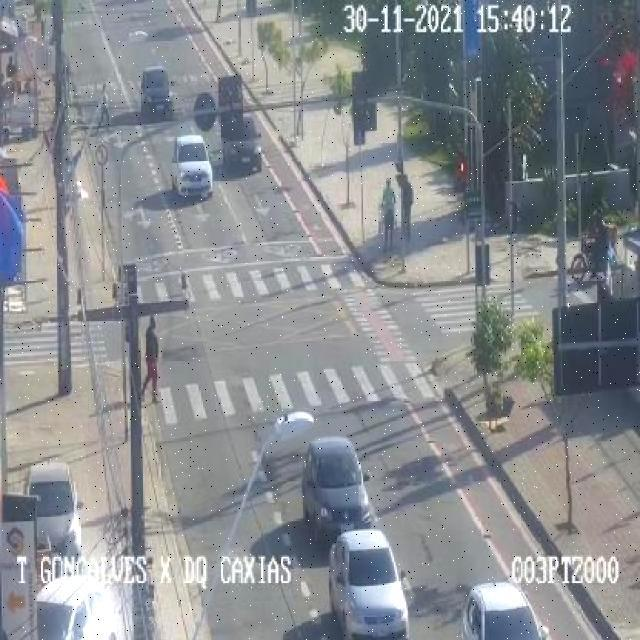Car: (328, 530, 407, 638), (301, 437, 374, 542), (35, 575, 128, 639), (26, 461, 82, 559), (459, 582, 550, 639), (170, 134, 213, 198), (222, 117, 262, 174), (140, 66, 173, 119)
Cycle: (568, 233, 614, 286)
